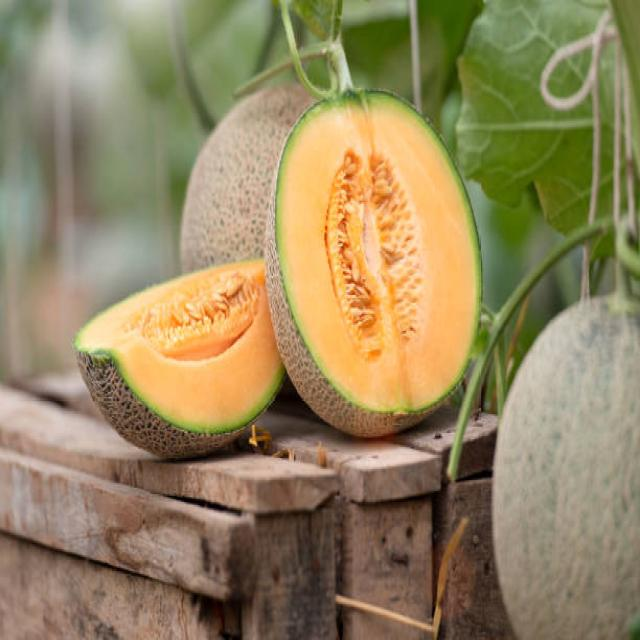cantaloupe: (269, 91, 485, 440), (75, 261, 288, 455)
